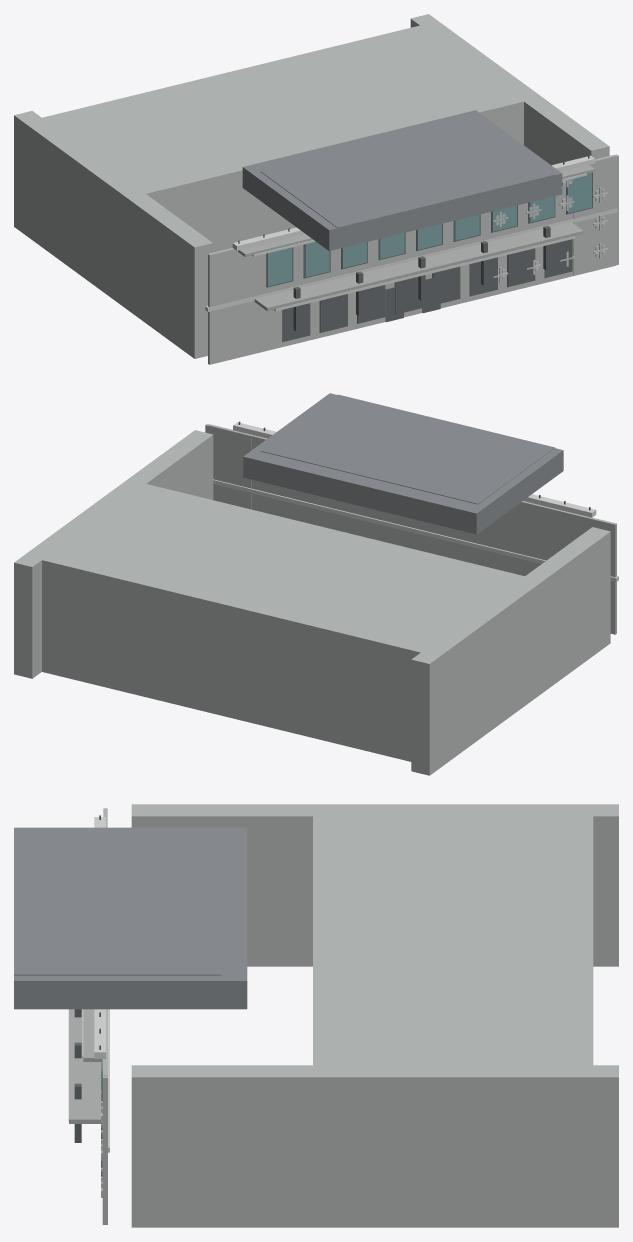
File: buildings-5-medium.glb
The picture shows the model from 3 angles, top to bottom: view 1: azimuth 30°, elevation 25°; view 2: azimuth 150°, elevation 25°; view 3: azimuth 270°, elevation 25°; orthographic projection. The views are drawn at different scales.
Parts seen in each view (by area): view 1: 北区食堂 · Canteen grey panel.001, 北区食堂 · Canteen roof metal.001, 北区食堂 · Canteen dark frame.001, 北区食堂 · Canteen canopy soffit.001, 北区食堂 · Canteen glazing.001, 北区食堂 · Canteen pale trim.001, 北区食堂 · Canteen X decor.001, 北区食堂 · Canteen roof rail.001; view 2: 北区食堂 · Canteen grey panel.001, 北区食堂 · Canteen roof metal.001, 北区食堂 · Canteen pale trim.001, 北区食堂 · Canteen roof rail.001; view 3: 北区食堂 · Canteen grey panel.001, 北区食堂 · Canteen roof metal.001, 北区食堂 · Canteen canopy soffit.001, 北区食堂 · Canteen roof rail.001, 北区食堂 · Canteen dark frame.001.
Part boxes in pixels (left/top/right/bottom): 北区食堂 · Canteen grey panel.001: left=14, top=14, right=618, bottom=364; 北区食堂 · Canteen roof metal.001: left=242, top=110, right=562, bottom=251; 北区食堂 · Canteen dark frame.001: left=238, top=155, right=592, bottom=342; 北区食堂 · Canteen canopy soffit.001: left=238, top=165, right=594, bottom=310; 北区食堂 · Canteen glazing.001: left=267, top=172, right=591, bottom=286; 北区食堂 · Canteen pale trim.001: left=205, top=173, right=617, bottom=311; 北区食堂 · Canteen X decor.001: left=493, top=178, right=607, bottom=282; 北区食堂 · Canteen roof rail.001: left=232, top=155, right=594, bottom=250; 北区食堂 · Canteen grey panel.001: left=14, top=424, right=616, bottom=775; 北区食堂 · Canteen roof metal.001: left=243, top=393, right=563, bottom=534; 北区食堂 · Canteen pale trim.001: left=213, top=479, right=618, bottom=582; 北区食堂 · Canteen roof rail.001: left=233, top=422, right=596, bottom=517; 北区食堂 · Canteen grey panel.001: left=102, top=804, right=618, bottom=1227; 北区食堂 · Canteen roof metal.001: left=14, top=827, right=247, bottom=1009; 北区食堂 · Canteen canopy soffit.001: left=69, top=1009, right=102, bottom=1123; 北区食堂 · Canteen roof rail.001: left=94, top=817, right=105, bottom=1058; 北区食堂 · Canteen dark frame.001: left=74, top=815, right=102, bottom=1176.
Bounding box in the file's own units: 49.82 × 15.97 × 46.68.
